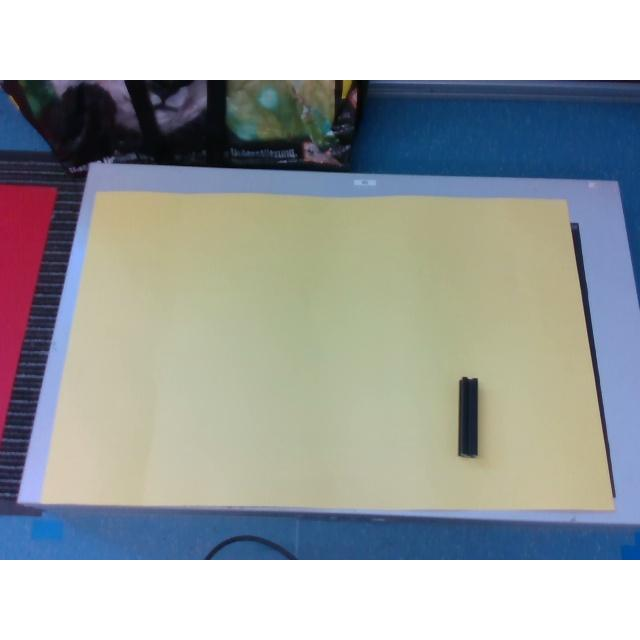F20_20_B: (458, 376, 478, 456)
